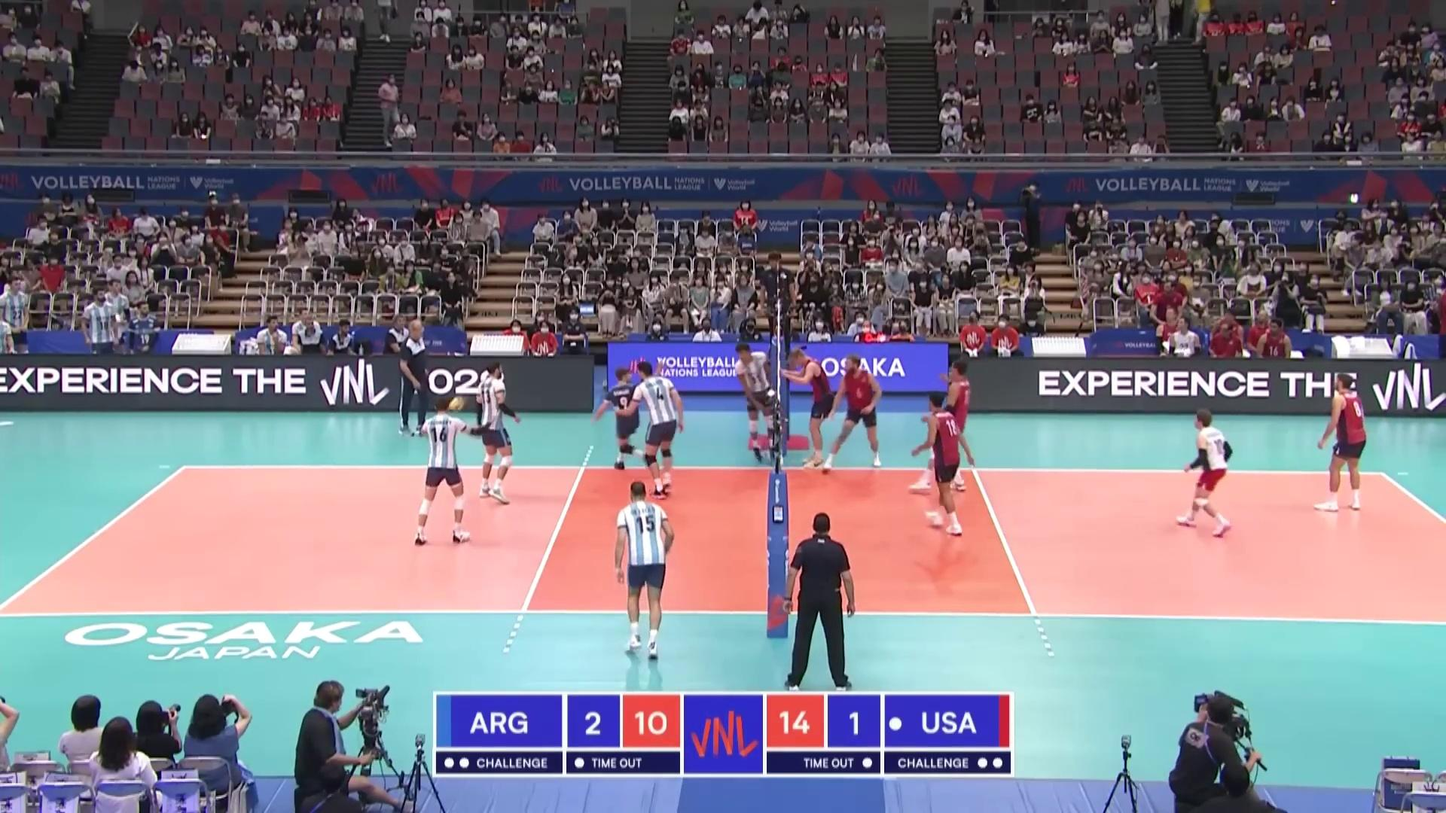player: (614, 479, 677, 658), (412, 396, 485, 548), (910, 360, 970, 493), (627, 362, 684, 498), (1176, 409, 1234, 541), (821, 355, 881, 474), (917, 394, 966, 538), (1317, 373, 1367, 513), (476, 361, 521, 504), (785, 348, 835, 472), (597, 367, 651, 469), (733, 342, 778, 461)
refree: (787, 512, 855, 686), (761, 252, 795, 340)
